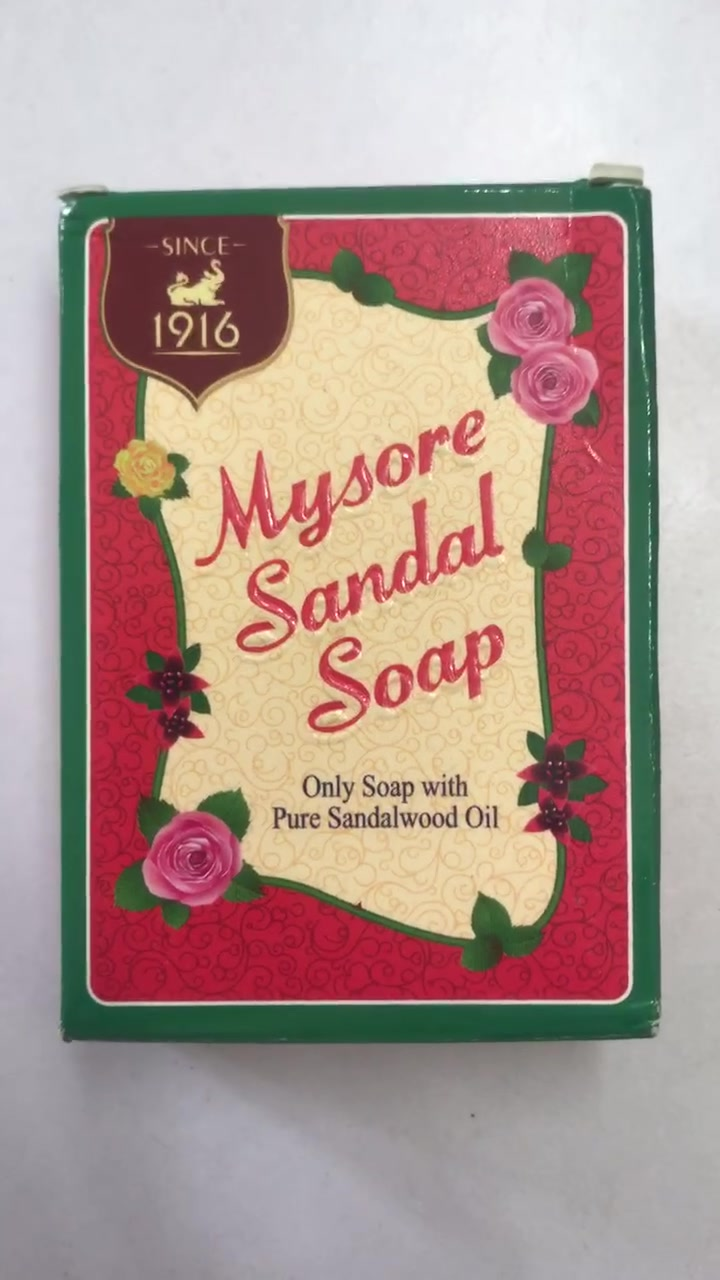mysore sandal soap: (56, 185, 655, 1034)
